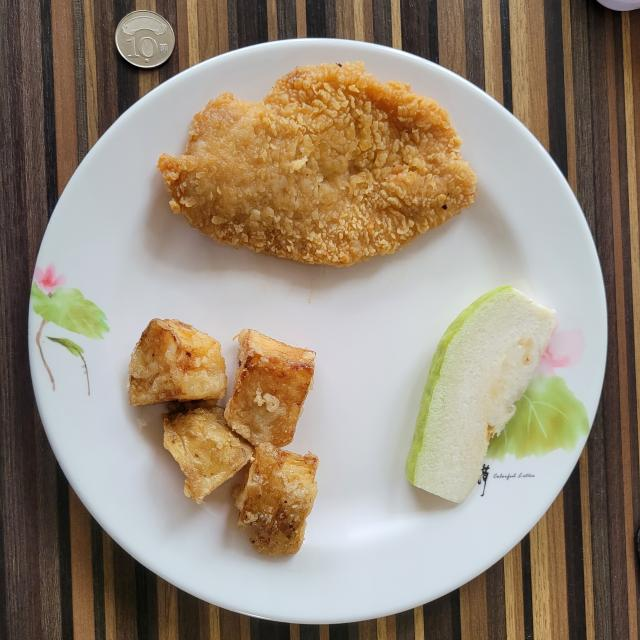coin: (115, 10, 175, 69)
fried chicken cutlet: (158, 61, 476, 266)
fried potato: (129, 319, 319, 556)
guava -sliced-: (405, 286, 555, 502)
